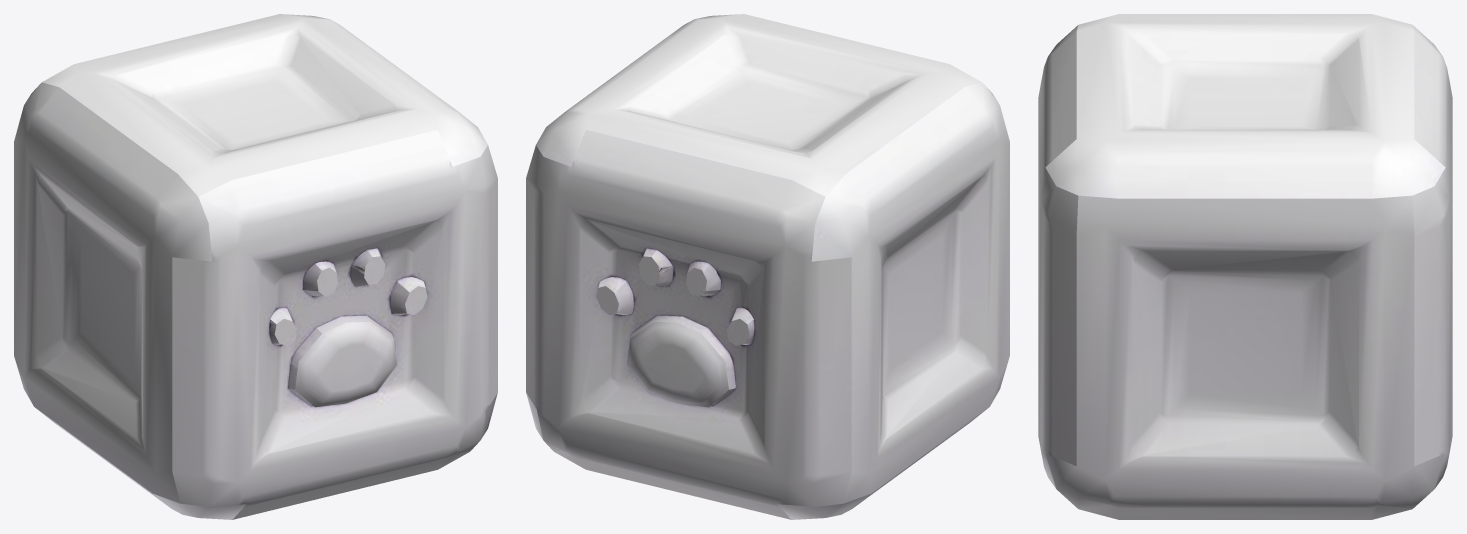
File: cubuk1.glb
3 renders of one model, left to right at view 1: azimuth 30°, elevation 25°; view 2: azimuth 150°, elevation 25°; view 3: azimuth 270°, elevation 25°, orthographic. The views are drawn at different scales.
Parts seen in each view (by area): view 1: cubuk1; view 2: cubuk1; view 3: cubuk1.
Part boxes in pixels (bbox=[...]): cubuk1: bbox=[14, 14, 497, 519]; cubuk1: bbox=[526, 14, 1009, 519]; cubuk1: bbox=[1038, 14, 1452, 519].
Bounding box in the file's own units: 1.51 × 1.51 × 1.51.
1 material, 1 textured.
